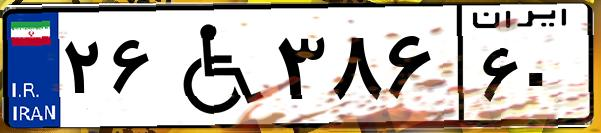0: (525, 38, 570, 115)
2: (57, 26, 110, 100)
3: (270, 28, 330, 110)
6: (385, 28, 445, 110), (475, 38, 525, 113), (110, 28, 158, 98)
8: (330, 28, 385, 110)
ژ (معلولین و جانبازان): (158, 12, 270, 120)
